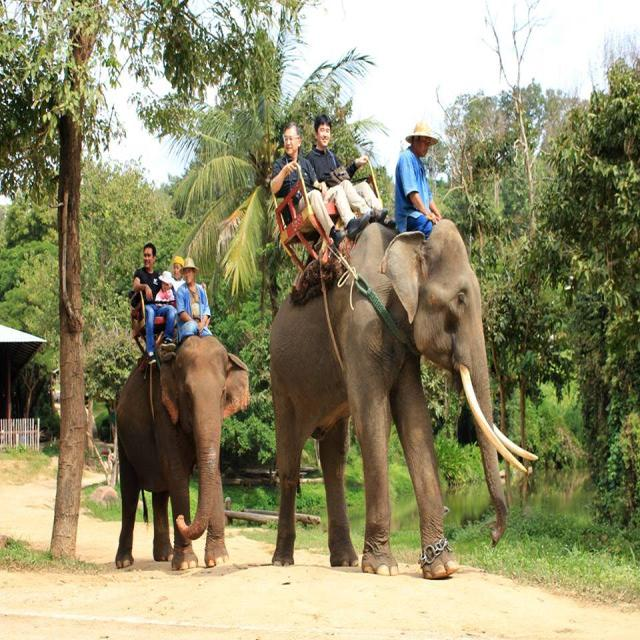Elephant: (265, 212, 533, 621), (110, 338, 258, 606)
